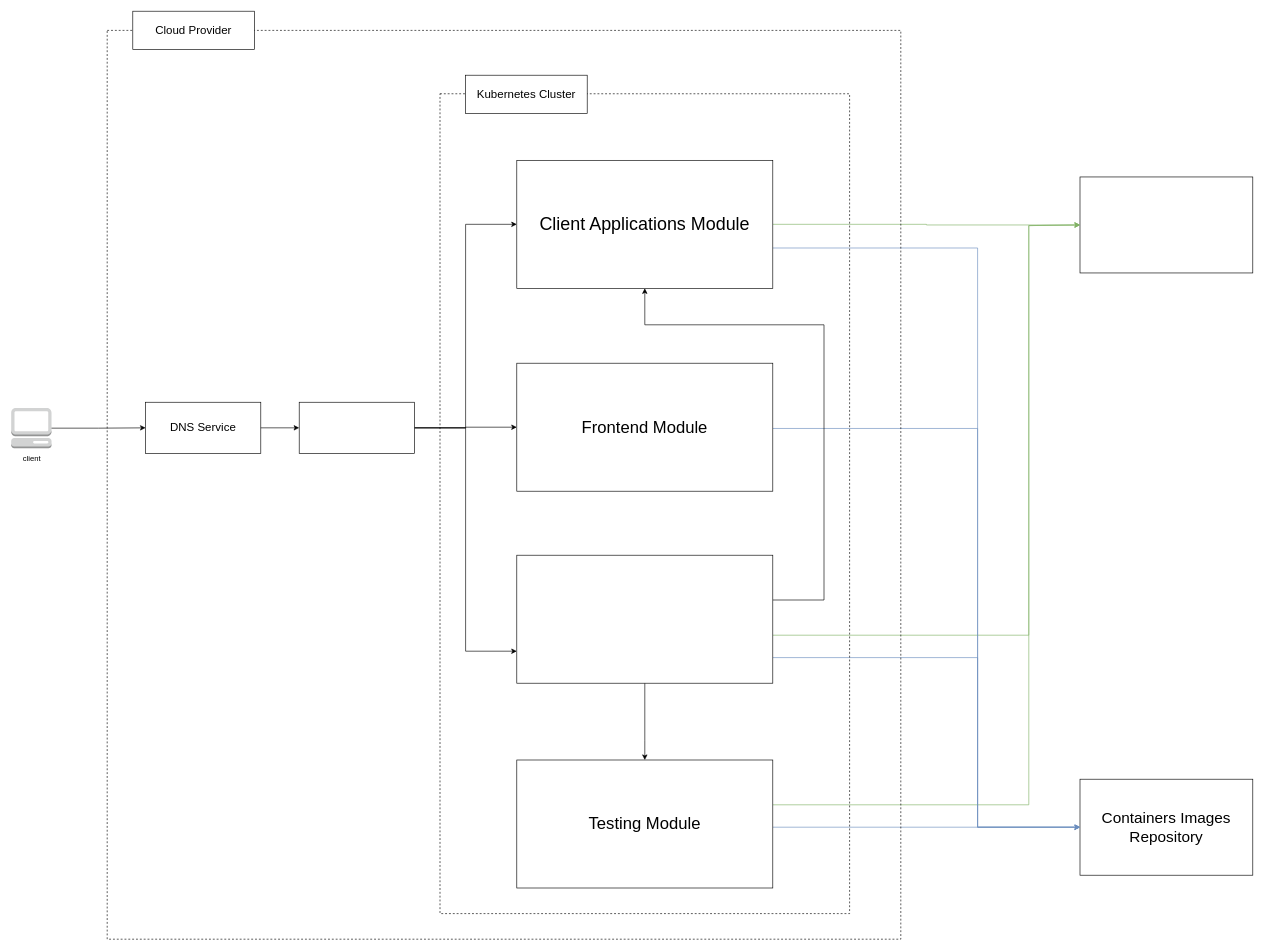
Some shapes in this 1264 by 950 pixel diagram are drawn without their labels. Each missing label, with the box of its shape:
Backend Module: (516, 555, 773, 683)
Baza Danych: (1079, 176, 1253, 273)
Load Balancer: (299, 402, 414, 453)
